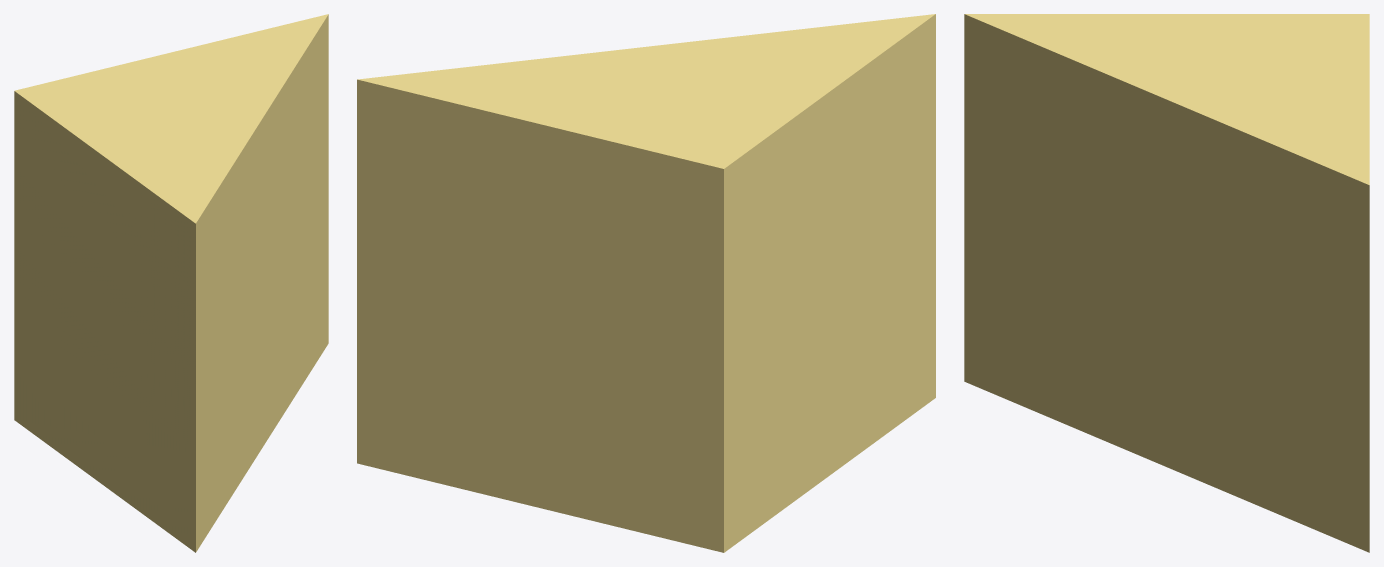
The model's file is TimedPulse_VerticalSlope.glb.
The picture shows the model from 3 angles, left to right: view 1: azimuth 30°, elevation 25°; view 2: azimuth 150°, elevation 25°; view 3: azimuth 270°, elevation 25°; orthographic projection. The views are drawn at different scales.
Visible parts, largest first — view 1: TimedPulse_VerticalSlope_body; view 2: TimedPulse_VerticalSlope_body; view 3: TimedPulse_VerticalSlope_body.
Part boxes in pixels (x1,y1,x2,y2): TimedPulse_VerticalSlope_body: (14, 14, 328, 552); TimedPulse_VerticalSlope_body: (357, 14, 935, 552); TimedPulse_VerticalSlope_body: (964, 14, 1369, 552).
Size of the model in its own units: 1 by 1 by 1.
